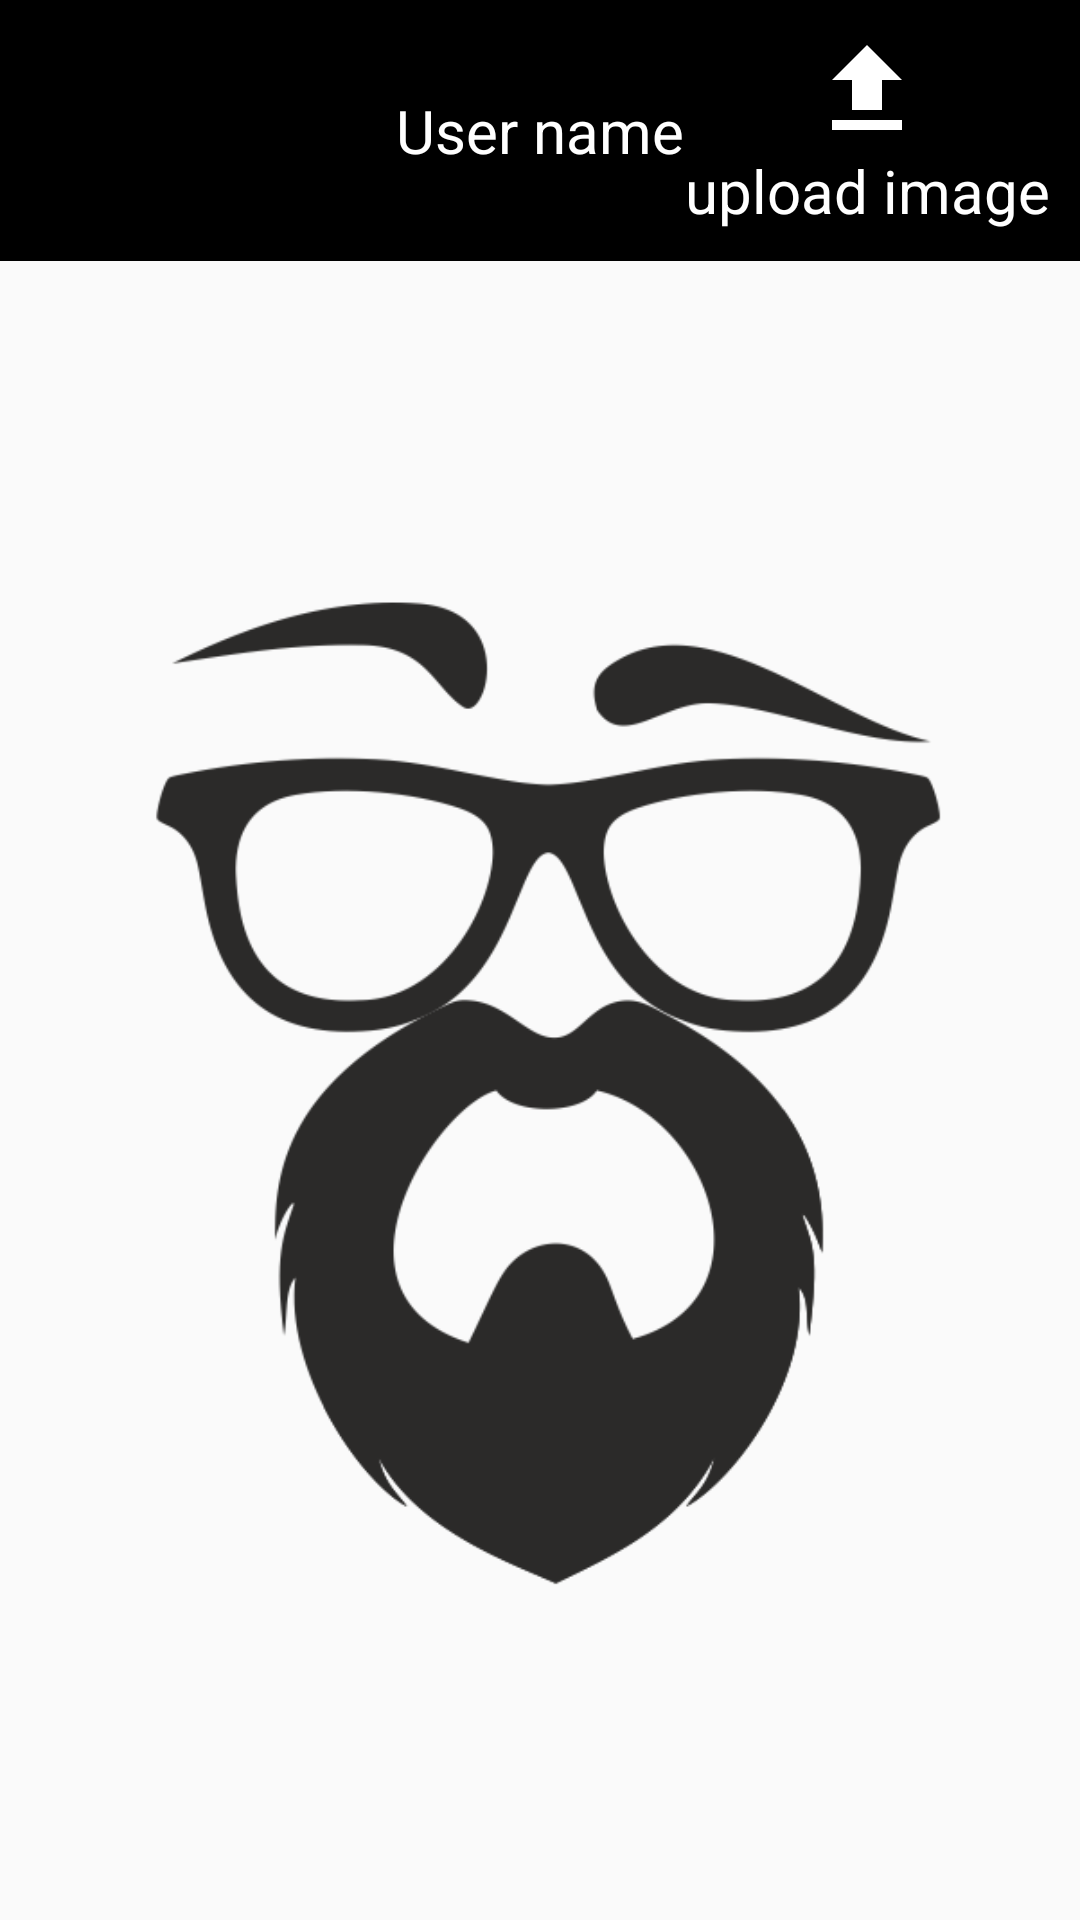

Icons on this 1080×1920 Android screen, each with its box as (x1, y1, x2, y2):
file upload: (832, 45, 902, 130)
